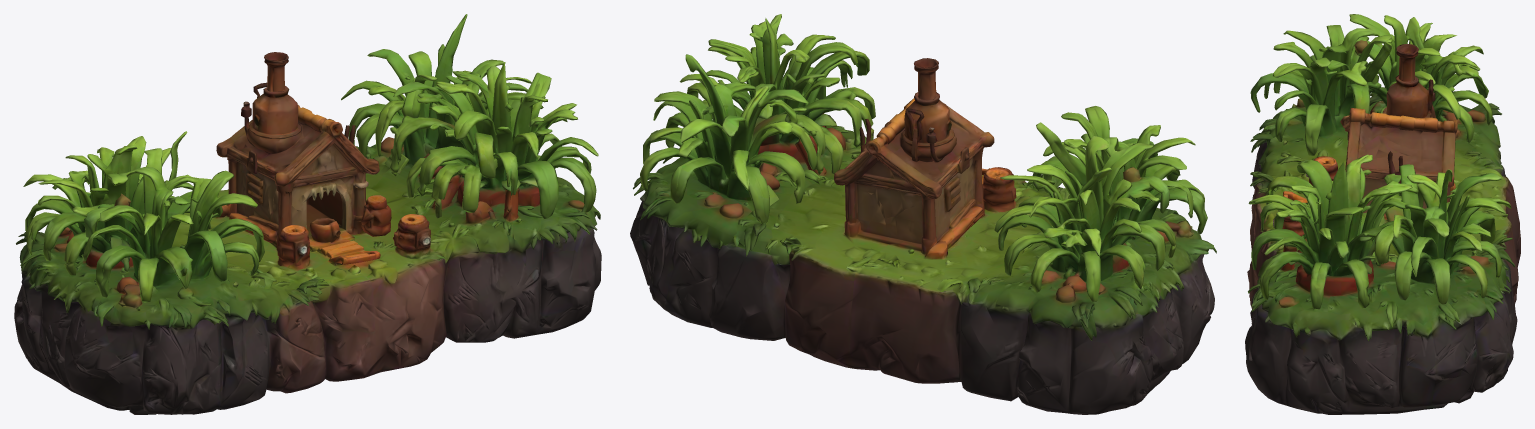
Rendered from isla-ron.glb.
3 views of the same model, side by side, from view 1: azimuth 30°, elevation 25°; view 2: azimuth 150°, elevation 25°; view 3: azimuth 270°, elevation 25° (orthographic). The views are drawn at different scales.
Size of the model in its own units: 0.9792 by 0.4983 by 0.491.
1 material, 1 textured.
